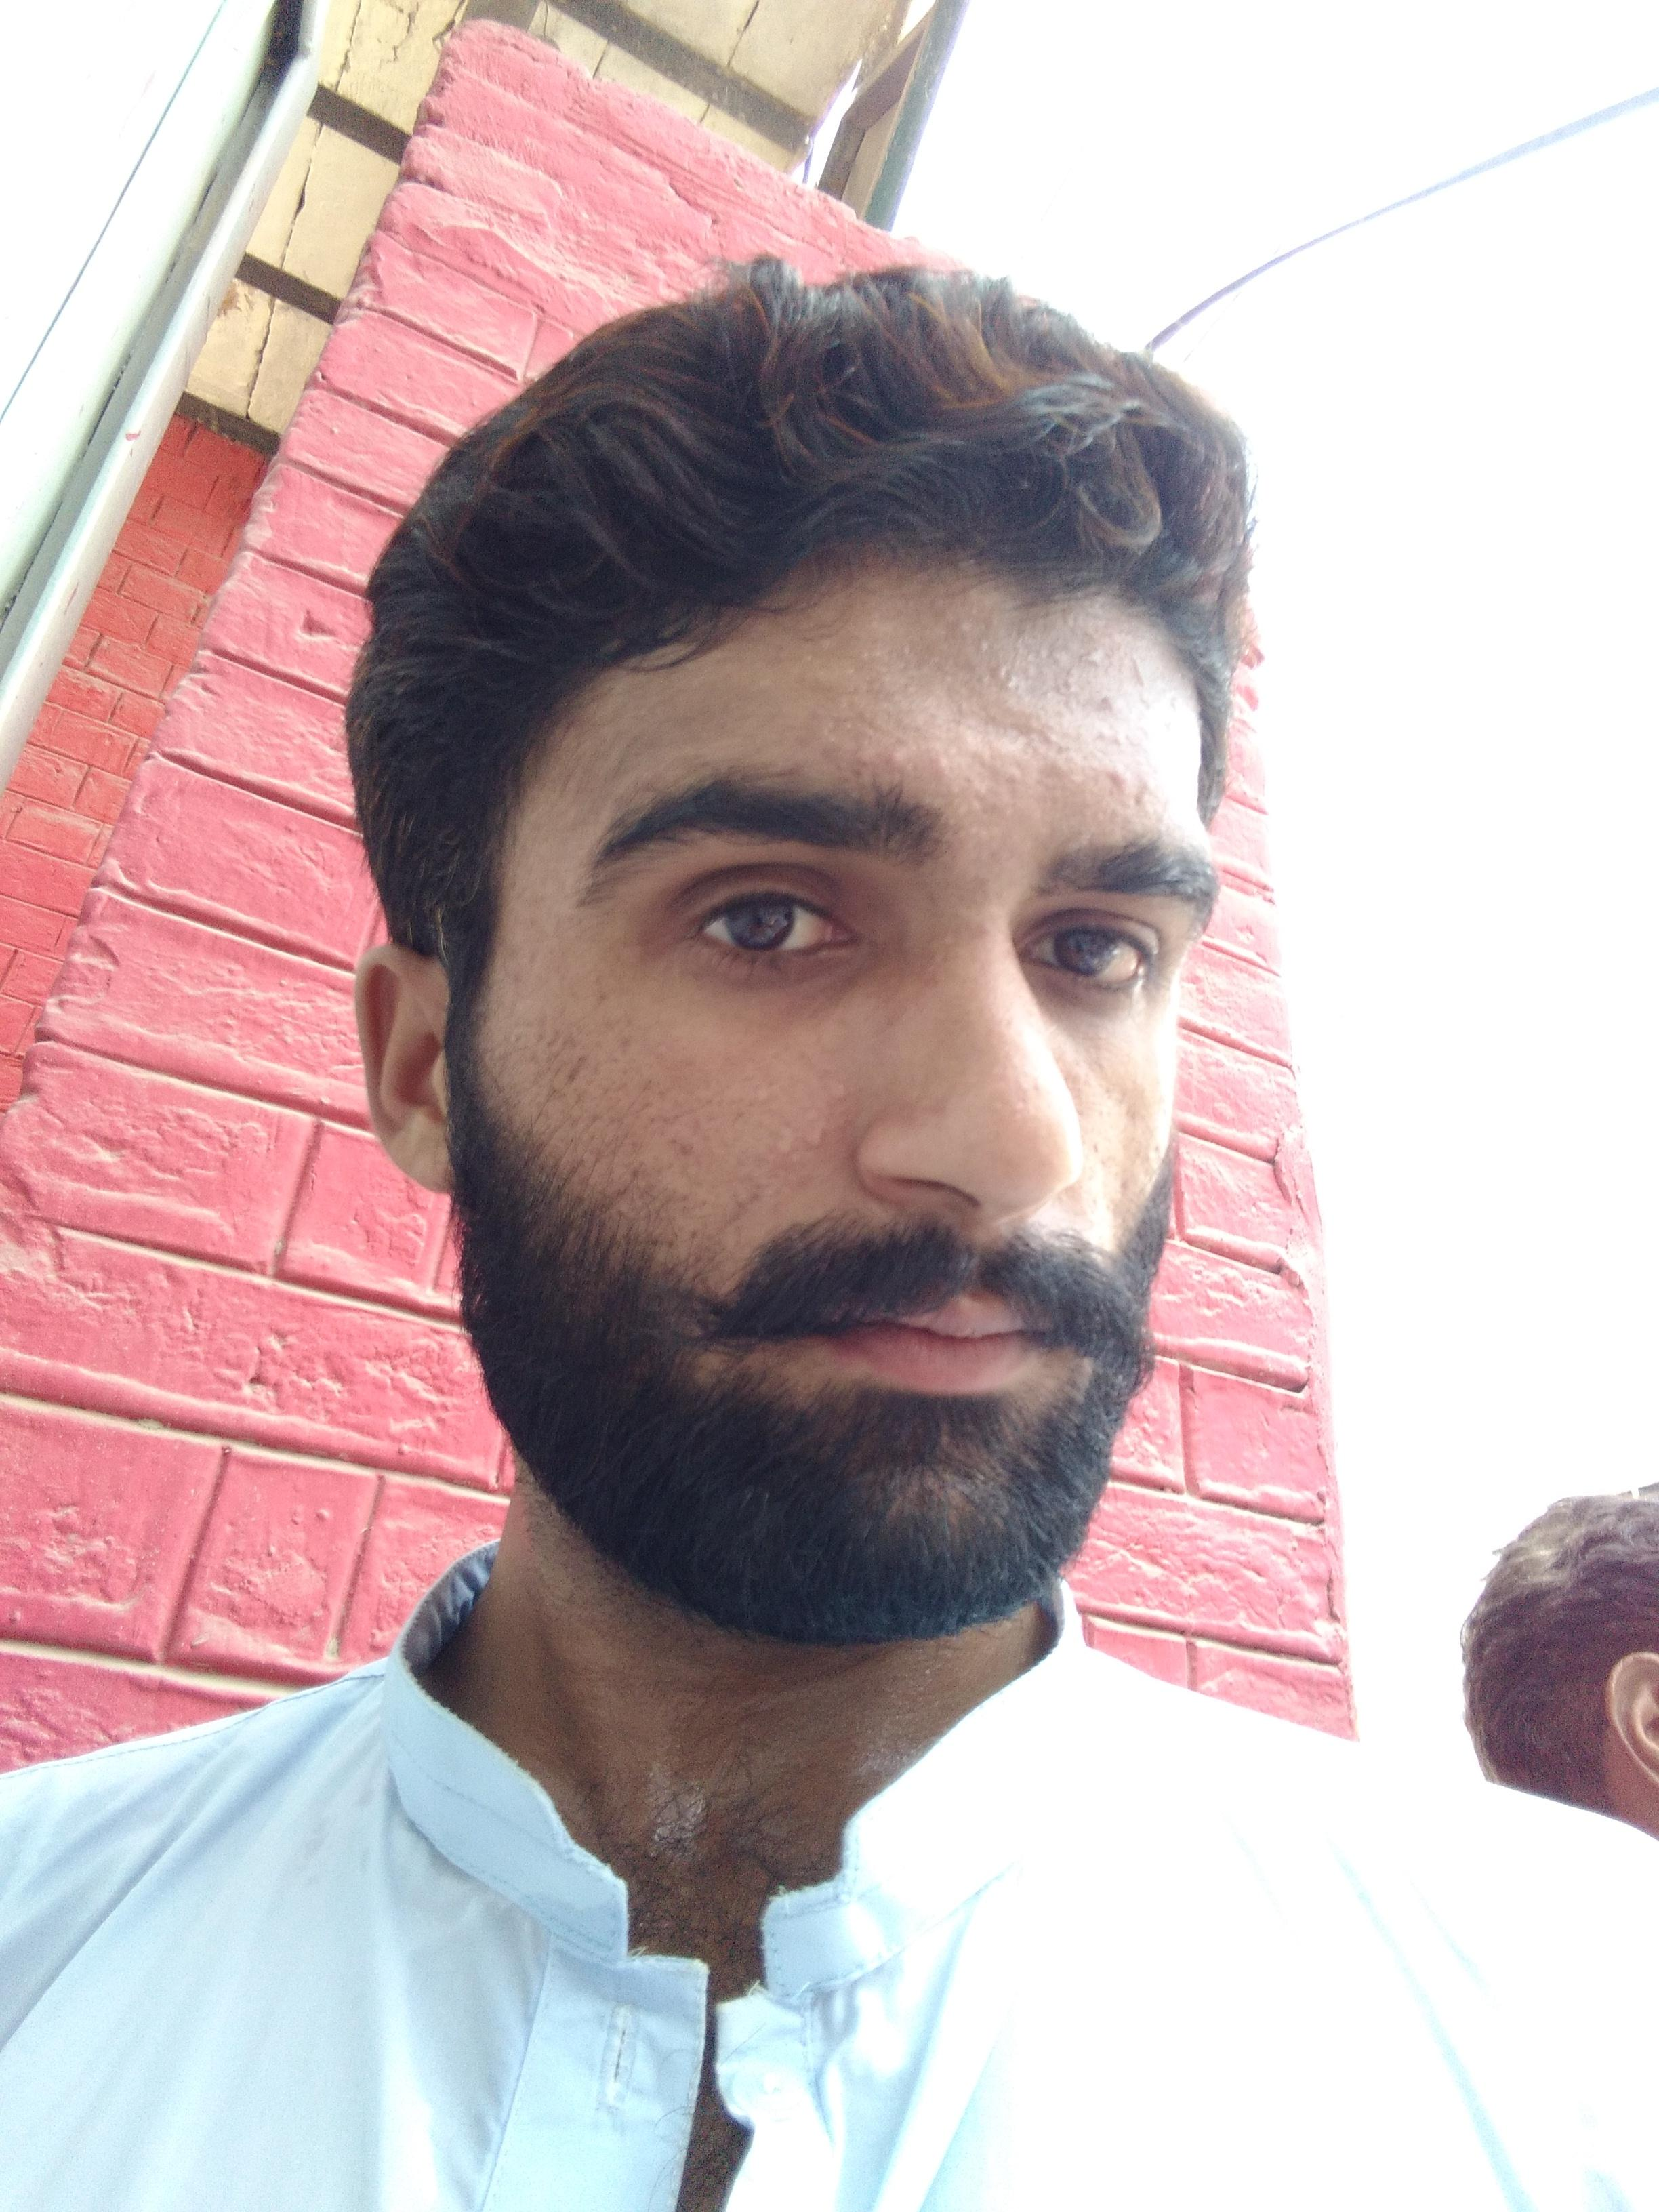Acne: (847, 738, 953, 782), (1101, 761, 1155, 813), (1093, 688, 1112, 712), (969, 920, 995, 937)
Dry-Skin: (835, 726, 1161, 803), (1014, 655, 1154, 723), (847, 660, 969, 721)
Englarged-Pores: (544, 1031, 690, 1163), (1065, 1047, 1162, 1205), (687, 1089, 843, 1179)
Eyebags: (690, 942, 870, 1017), (1025, 965, 1141, 1022)
